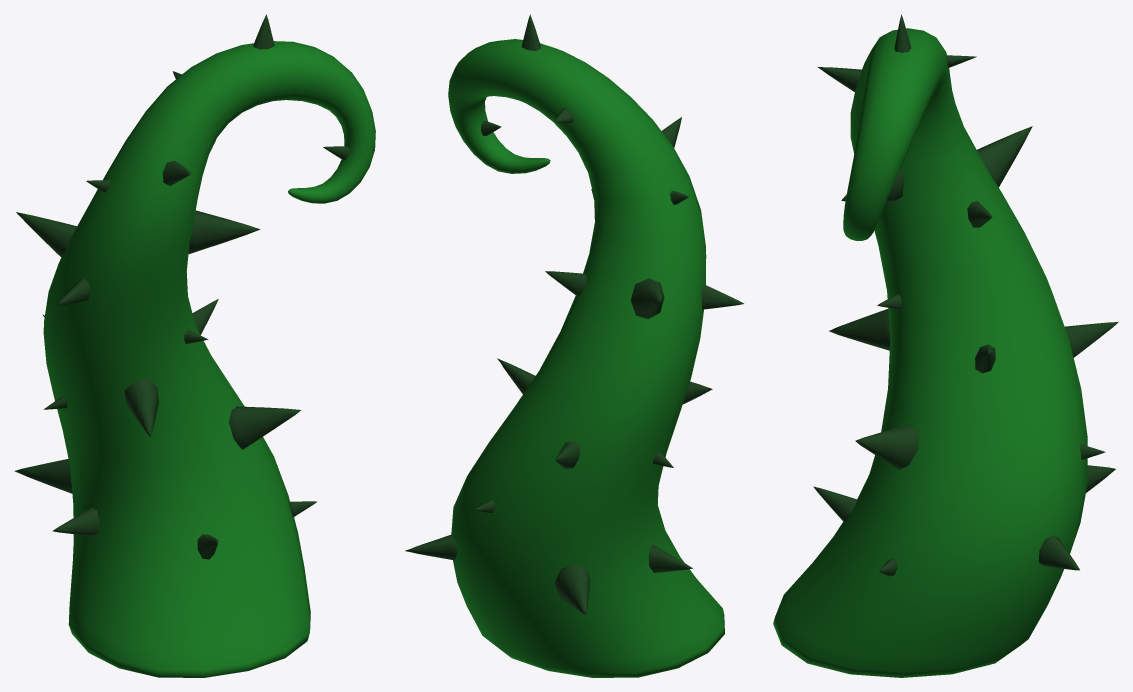
The model's file is Vine_1.fbx.
The picture shows the model from 3 angles, left to right: view 1: azimuth 30°, elevation 25°; view 2: azimuth 150°, elevation 25°; view 3: azimuth 270°, elevation 25°; orthographic projection. The views are drawn at different scales.
Parts seen in each view (by area): view 1: Vine_1; view 2: Vine_1; view 3: Vine_1.
Boxes of the visible parts, x1=… form: Vine_1: x1=14, y1=14, x2=375, y2=677; Vine_1: x1=405, y1=14, x2=743, y2=677; Vine_1: x1=773, y1=14, x2=1118, y2=677.
Bounding box in the file's own units: 508 × 958 × 458.
